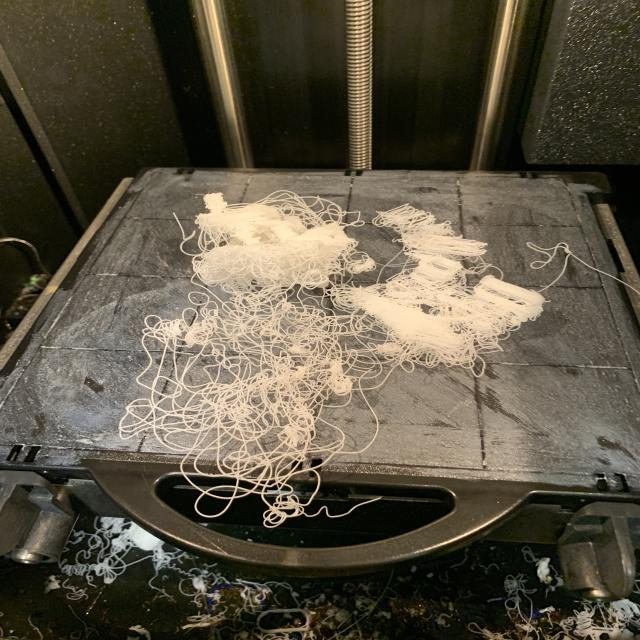spaghetti: (116, 187, 552, 527)
